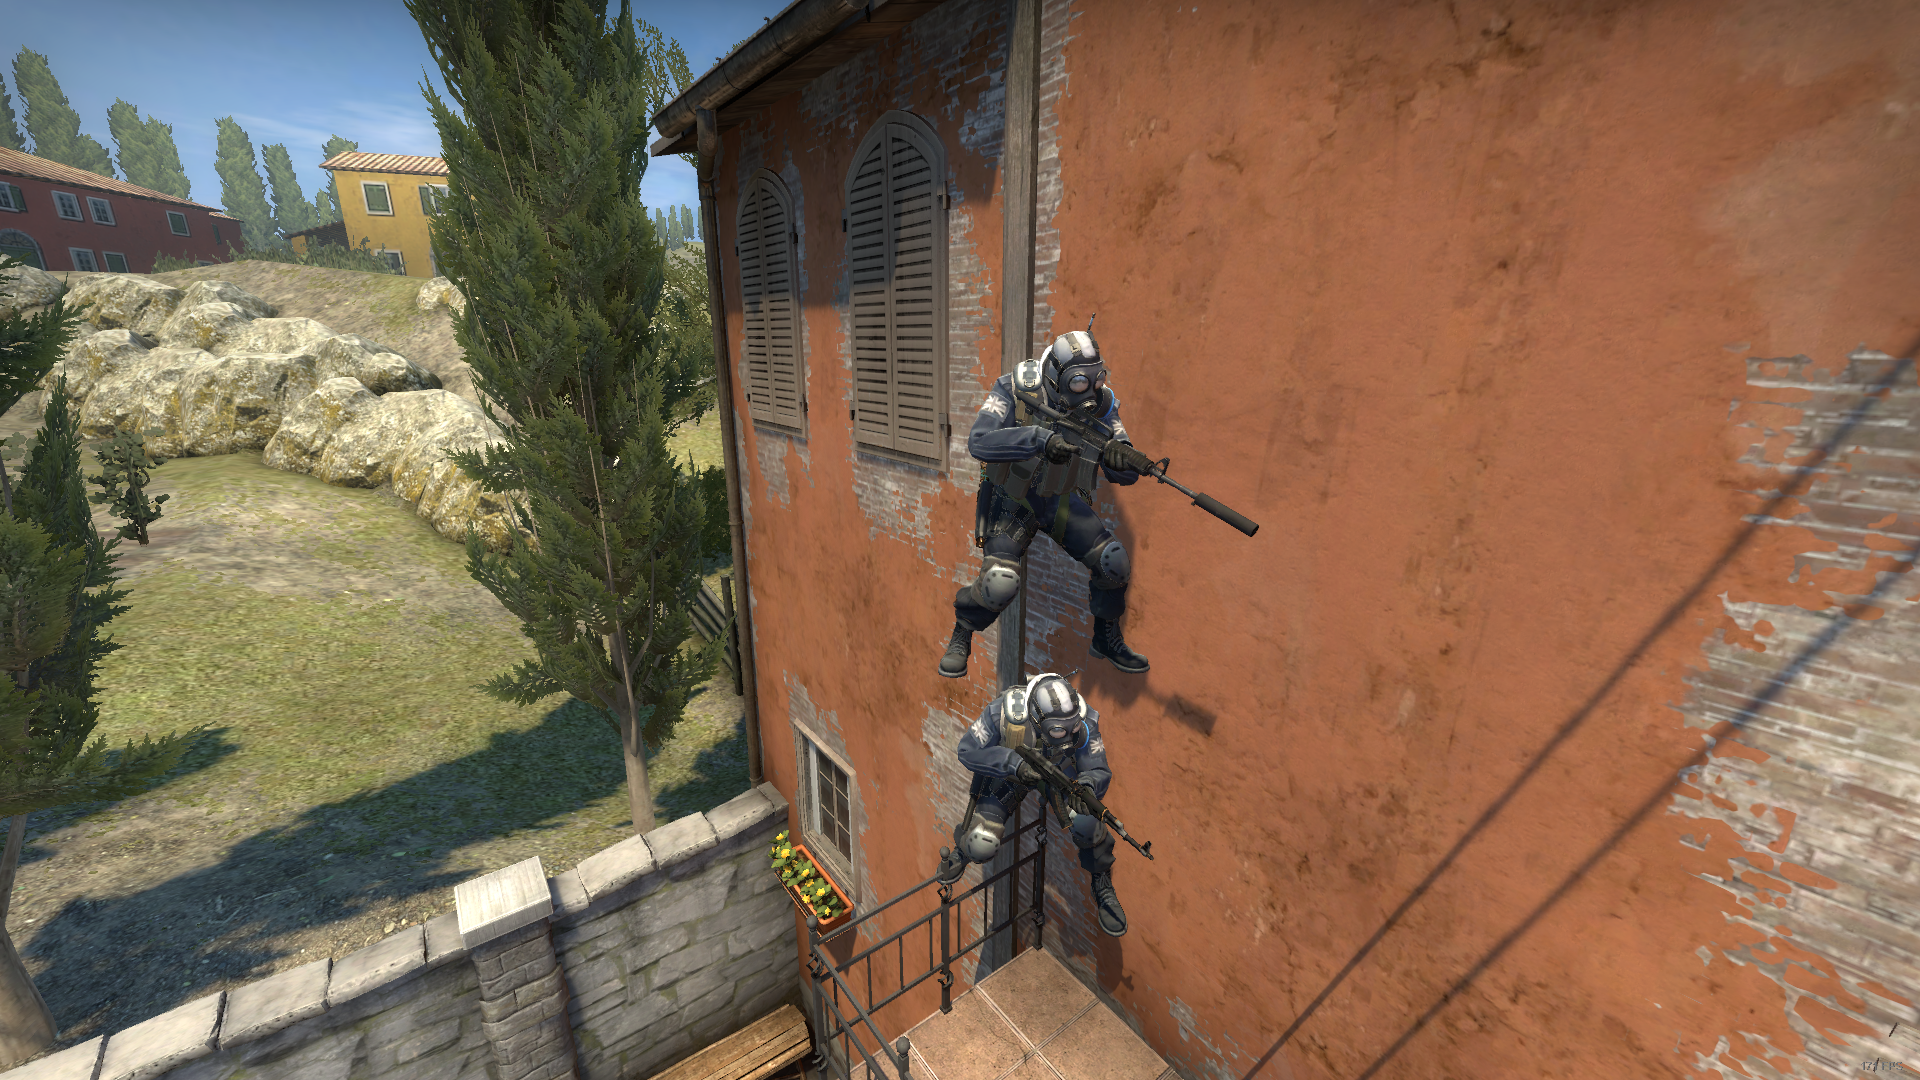ct: (936, 322, 1172, 682), (938, 670, 1155, 930)
